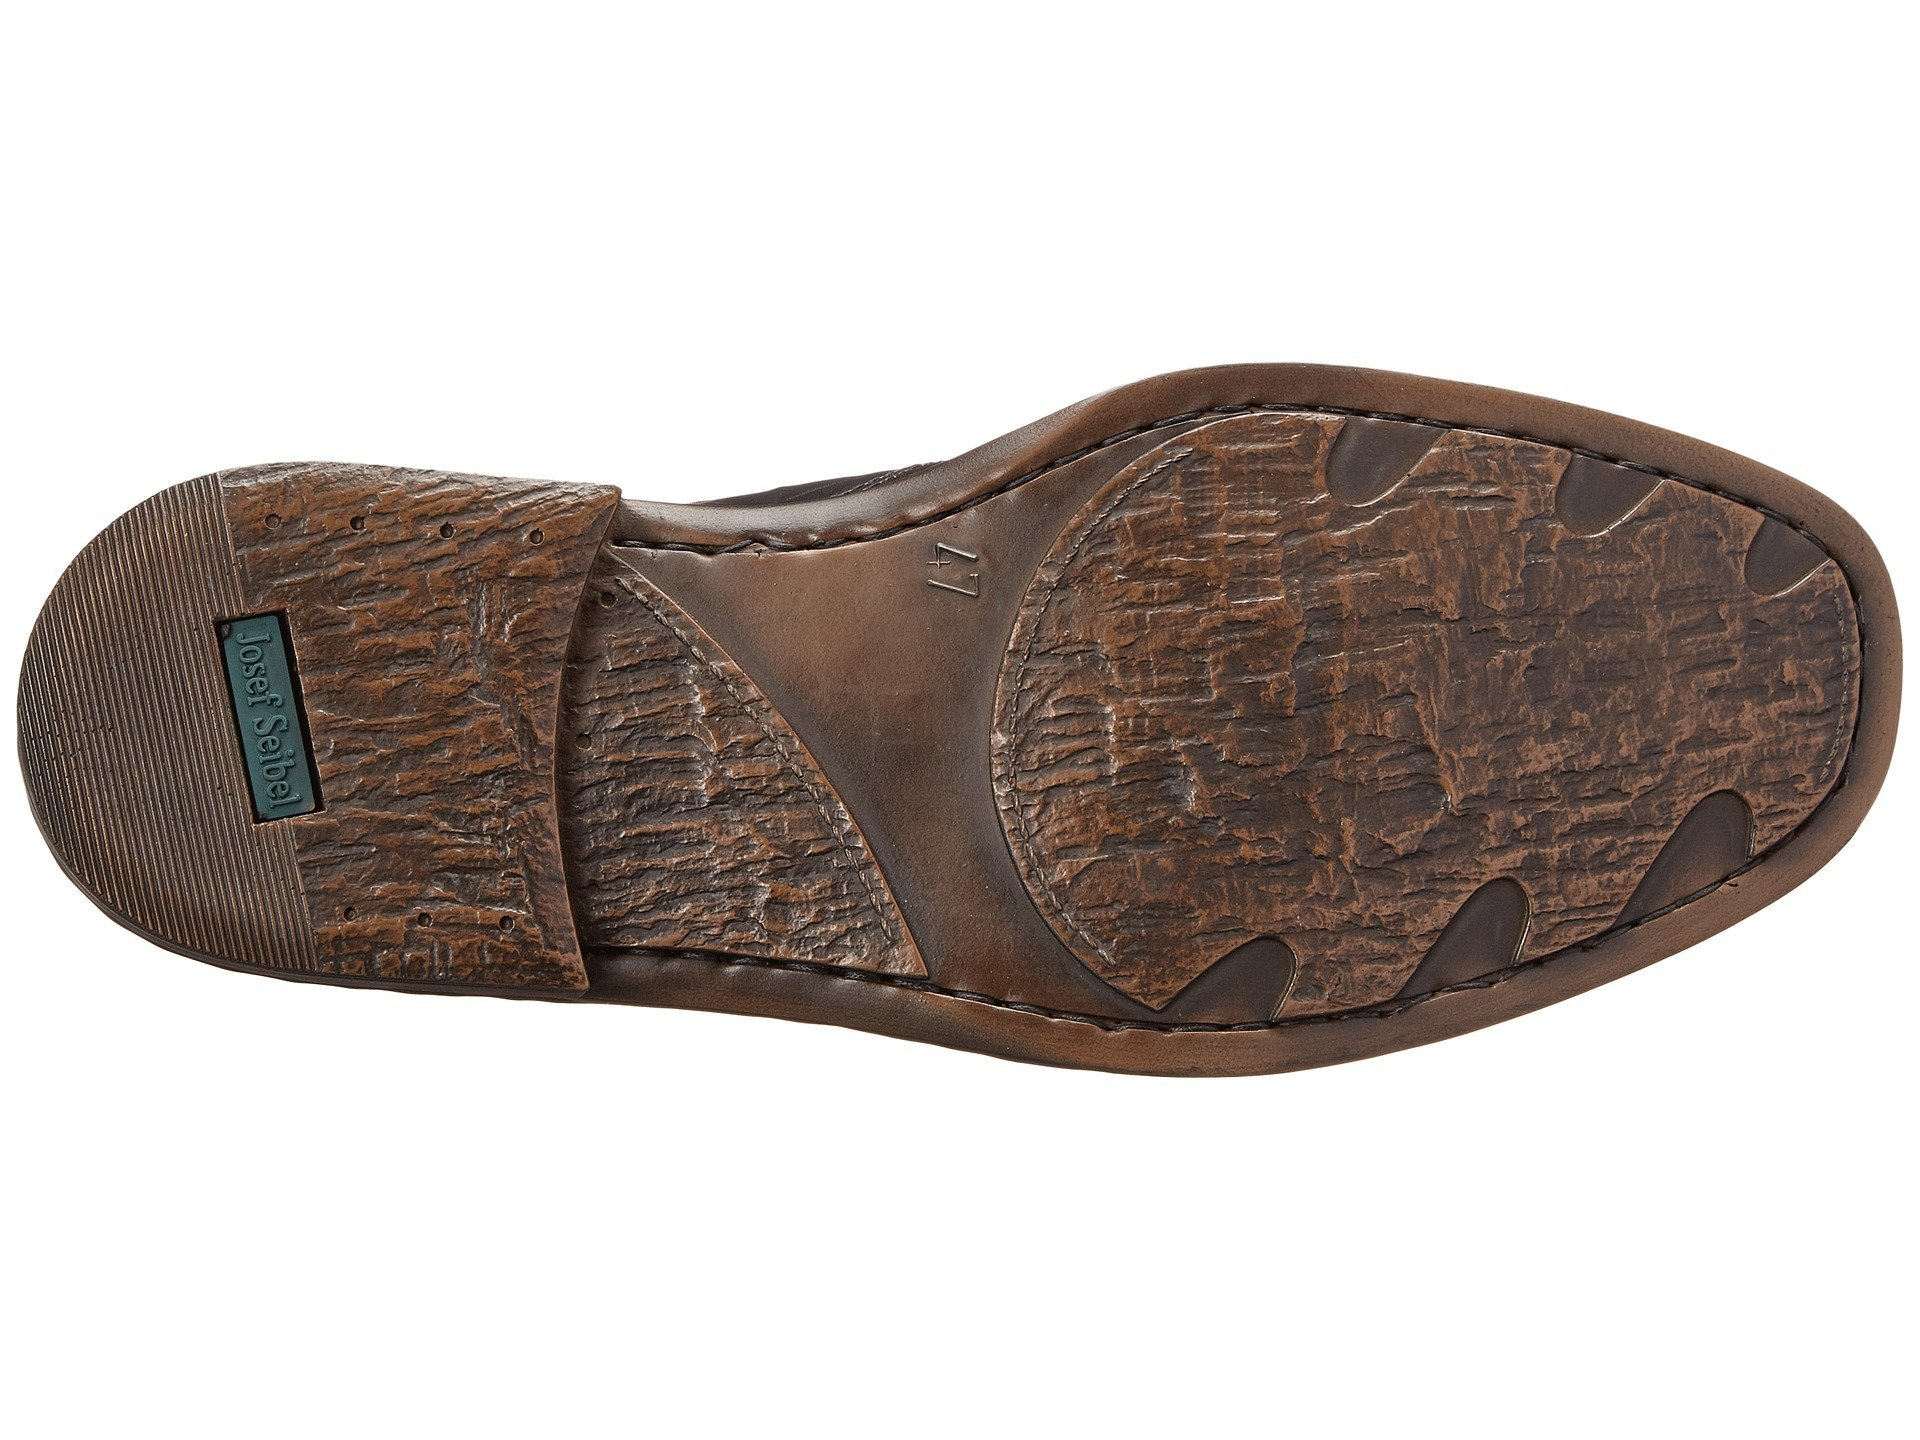line: (154, 561, 393, 892)
quad: (154, 561, 393, 892)
text: (154, 561, 393, 892)
